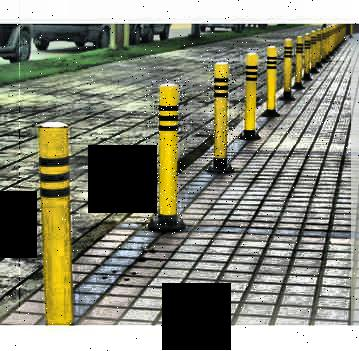bench: (144, 78, 188, 236), (203, 58, 237, 178), (239, 47, 262, 140)
